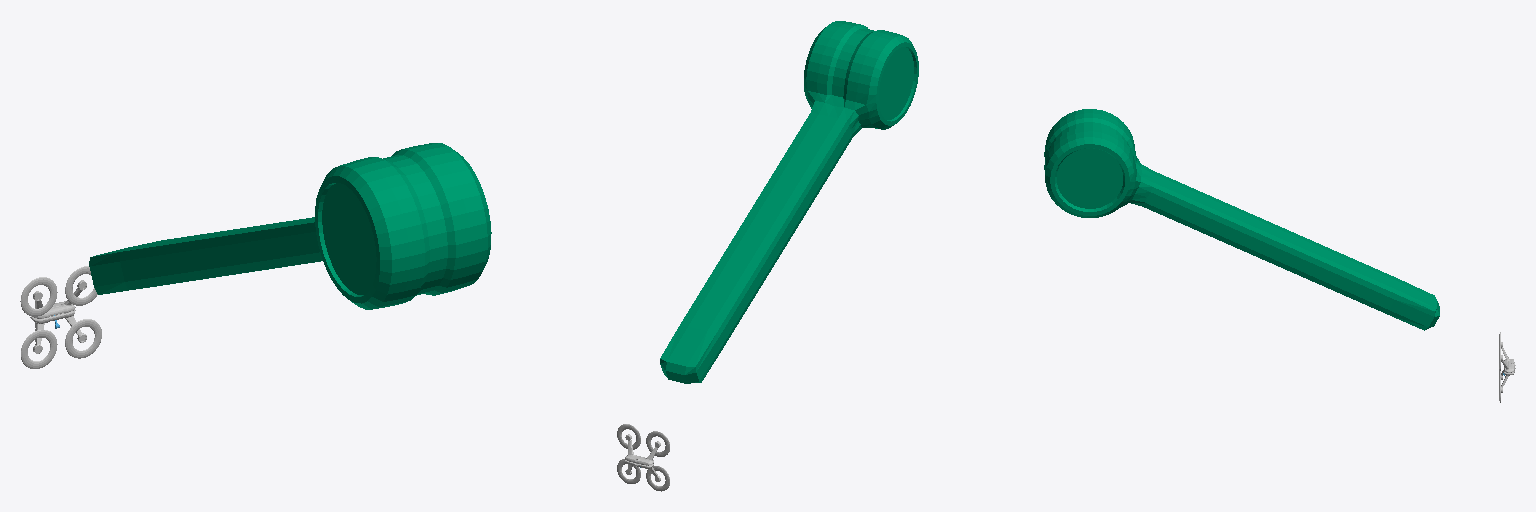
URDF robot description (airobot):
<robot name="airobot">
    <link name="drone">
        <inertial>
            <origin xyz="-0.000648 -0.000166 0.084487" rpy="0 0 0"/>
            <mass value="1"/>
            <inertia ixx="0.004622" ixy="9E-06" ixz="6E-05" iyy="0.004495" iyz="9E-06" izz="0.002079"/>
        </inertial>
        <visual>
            <origin xyz="0 0 0" rpy="0 0 0"/>
            <geometry>
                <mesh filename="airobot.dae"/>
            </geometry>
        </visual>
        <collision>
            <origin xyz="0 0 0" rpy="0 0 0"/>
            <geometry>
                <mesh filename="airobot.dae"/>
            </geometry>
        </collision>
    </link>
 
    <link name="armA">
        <inertial>
            <origin xyz="-2.3E-05 -0.010364 -0.07336" rpy="0 0 0"/>
            <mass value="0.25" />
            <inertia ixx="0.00457" ixy="1E-06" ixz="2E-06" iyy="0.004831" iyz="0.000448" izz="0.001409"/>
        </inertial>
        <visual>
            <origin xyz="0 0.005 0.011" rpy="0 0 0"/>
            <geometry>
                <mesh filename="airobot_grip/armA.obj"/>
            </geometry>
        </visual>
    </link>
    <link name="armB">
        <inertial>
            <origin xyz="2.3E-05 -0.010364 0.07336" rpy="0 0 0"/>
            <mass value="0.25" />
            <inertia ixx="0.00457" ixy="1E-06" ixz="2E-06" iyy="0.004831" iyz="0.000448" izz="0.001409"/>
        </inertial>
        <visual>
            <origin xyz="0 0.005 -0.011" rpy="0 0 0"/>
            <geometry>
                <mesh filename="airobot_grip/armB.obj"/>
            </geometry>
        </visual>
    </link>

    <joint name="jointBodyArmA" type="continuous">
        <parent link="drone"/>
        <child link="armA"/>
        <origin xyz="0 0.005 0.011" rpy="0 0 0"/>
   </joint>

    <joint name="jointBodyArmB" type="continuous">
        <parent link="drone"/>
        <child link="armB"/>
        <origin xyz="0 0.005 -0.011" rpy="0 0 0"/>
    </joint>
</robot>

--- What the picture shows (computed from the rendered views, not written in the file) ---
Views: 3 orthographic renders of the robot side by side, from view 1: azimuth 30°, elevation 25°; view 2: azimuth 150°, elevation 25°; view 3: azimuth 270°, elevation 25°.
Model airobot with 3 links and 2 joints (2 continuous), rooted at drone, posed every joint at zero.
Visible links, largest first — view 1: armB, drone; view 2: armB, drone; view 3: armB.
Boxes of the visible links, x1=… form: armB: x1=89, y1=143, x2=491, y2=309; drone: x1=20, y1=266, x2=101, y2=368; armB: x1=660, y1=21, x2=918, y2=383; drone: x1=617, y1=424, x2=669, y2=491; armB: x1=1044, y1=109, x2=1439, y2=330.
Size in the robot's own frame: 0.4113 by 2.47 by 1.59 metres.
3 mesh visuals loaded from 3 distinct referenced files (1 Collada DAE, 2 OBJ).